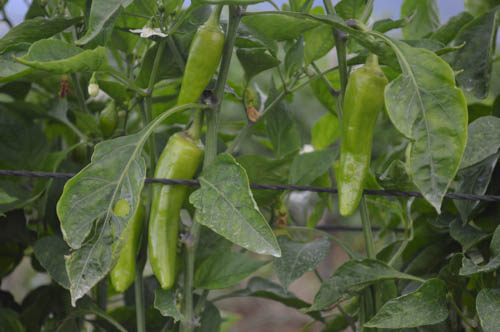ChiliPepper: (149, 136, 202, 293), (333, 69, 386, 221), (175, 27, 225, 112), (106, 196, 147, 293)
